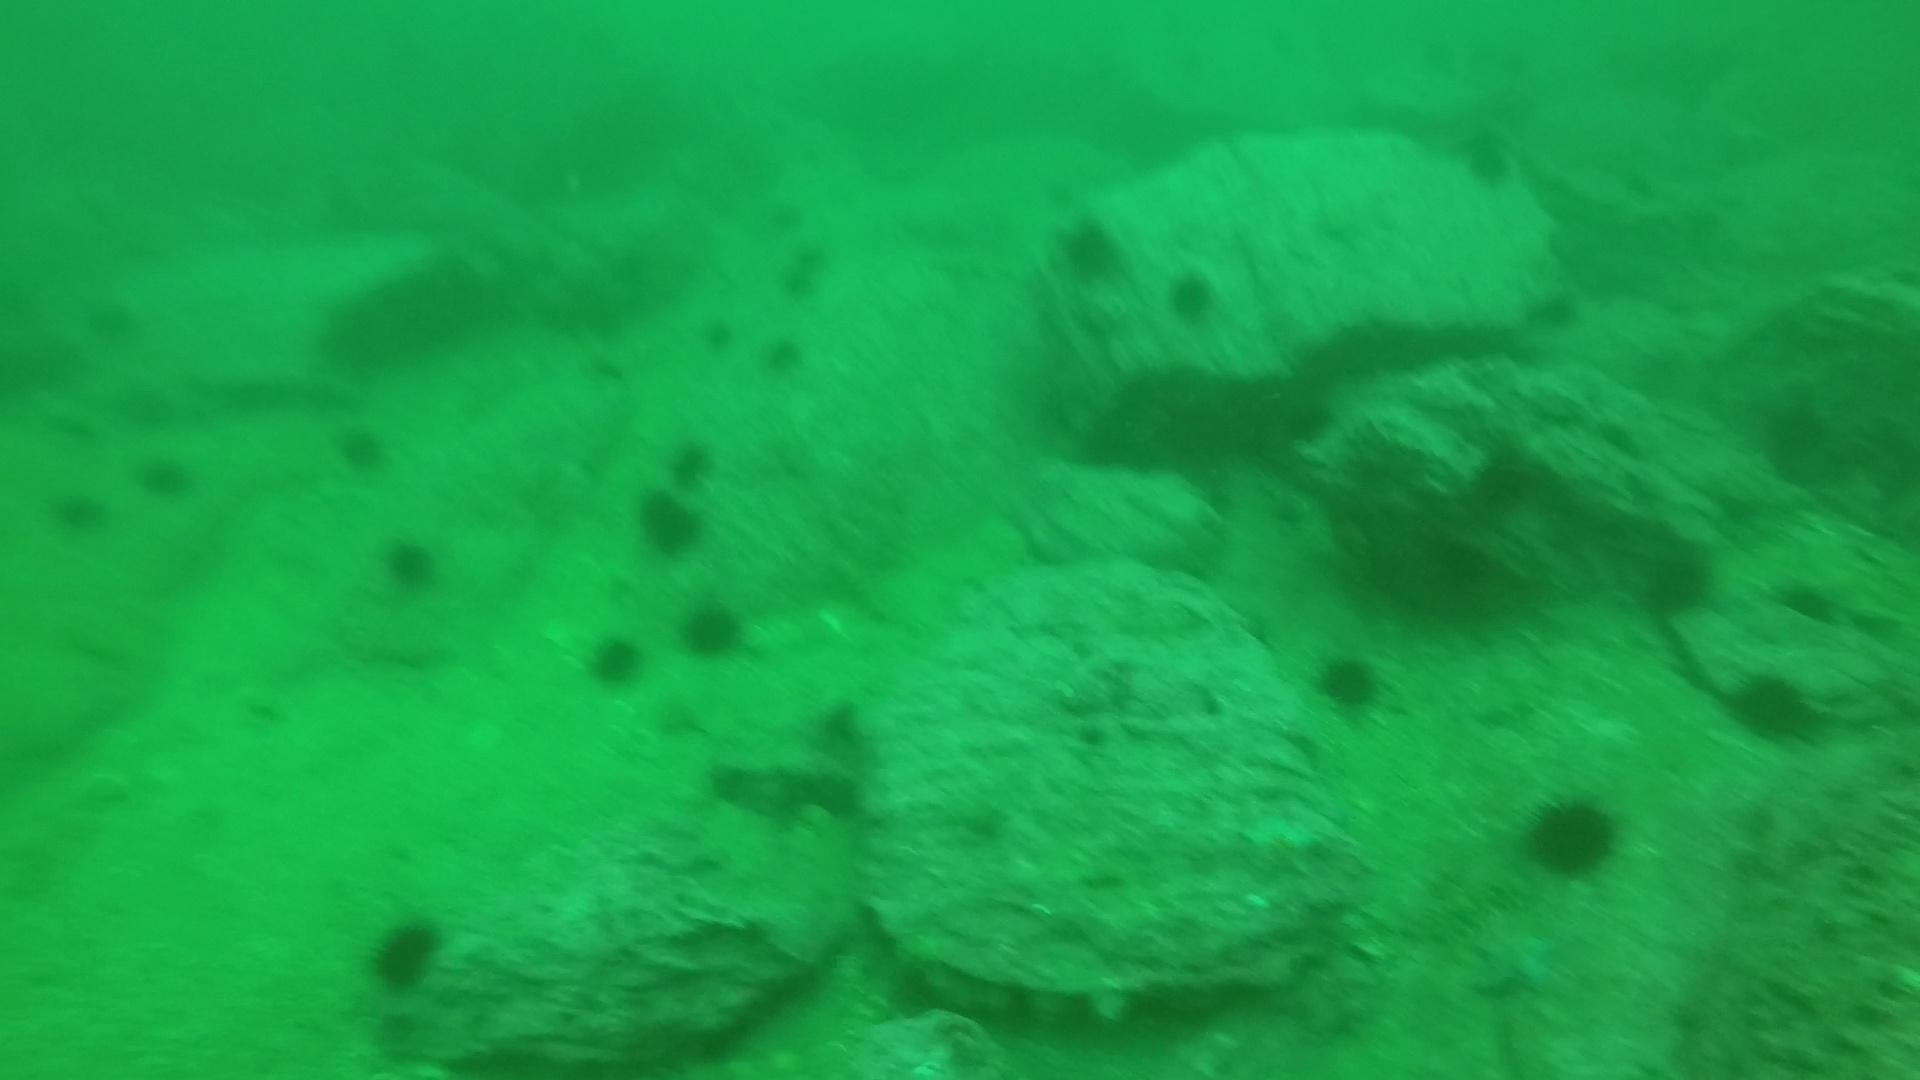echinus: (1519, 789, 1625, 882), (1722, 666, 1825, 746), (1633, 538, 1720, 622), (363, 910, 448, 994), (1772, 568, 1851, 642), (1050, 210, 1127, 284), (632, 485, 708, 559), (1309, 647, 1389, 717), (676, 593, 752, 663), (1455, 123, 1519, 193), (582, 628, 649, 692), (377, 531, 444, 593), (1160, 265, 1222, 328), (44, 483, 111, 541), (113, 382, 181, 439), (330, 419, 394, 477), (76, 291, 142, 348), (132, 448, 199, 504), (661, 435, 717, 491), (757, 331, 808, 378), (694, 307, 745, 355), (773, 258, 820, 299), (769, 194, 816, 235), (1528, 290, 1576, 331), (793, 237, 839, 278)
starfish: (1462, 913, 1565, 1001)
